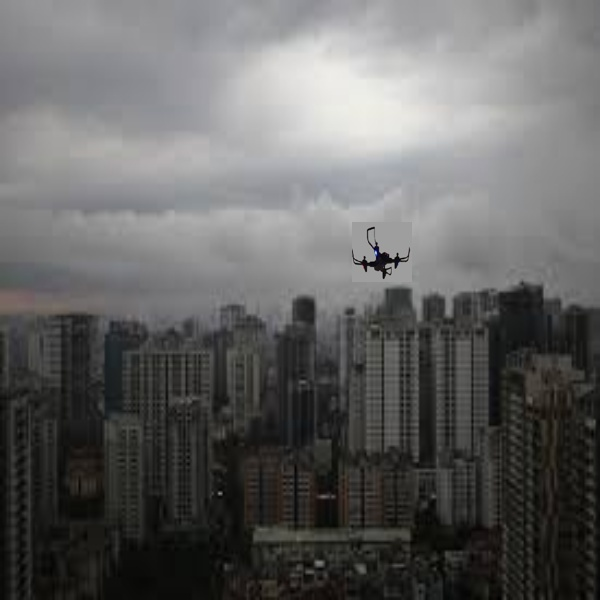drone: (351, 222, 411, 287)
